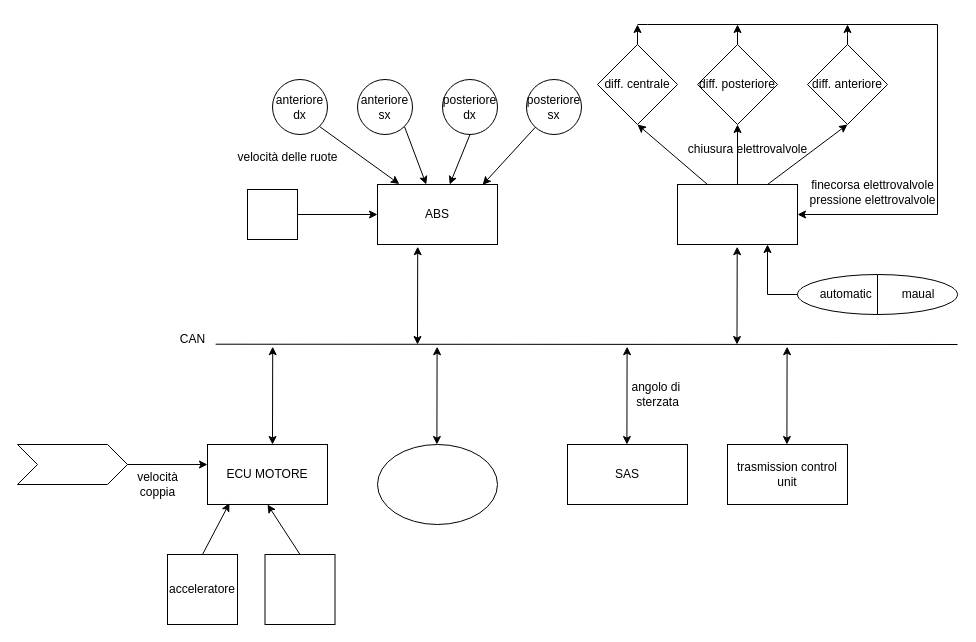
The diagram is 976 pixels wide and 642 high, and some of its shapes have lost their labels. Here are the shapes that lost their labels. From the top down, the centre of each, then its label:
At (272,214): "pedale freno".
At (737,214): "BDV".
At (72,464): "motore".
At (437,484): "display".
